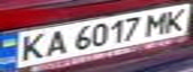0: (90, 20, 112, 47)
1: (106, 17, 127, 44)
6: (69, 22, 93, 52)
7: (121, 13, 145, 42)
A: (39, 27, 72, 57)
K: (12, 30, 51, 63), (160, 6, 193, 34)
M: (142, 9, 172, 36)
